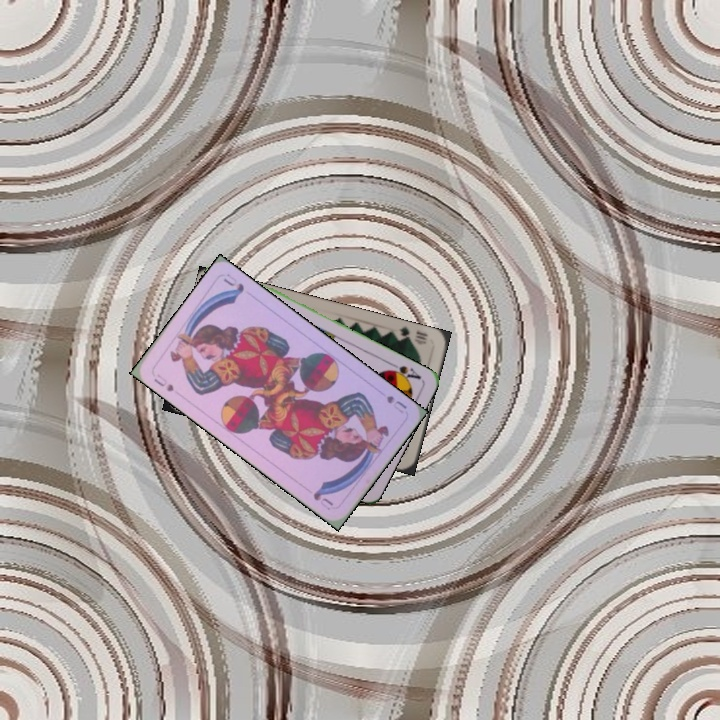G10: (395, 323, 431, 347)
SA: (383, 359, 424, 385)
SU: (382, 392, 410, 416), (150, 370, 176, 395)
